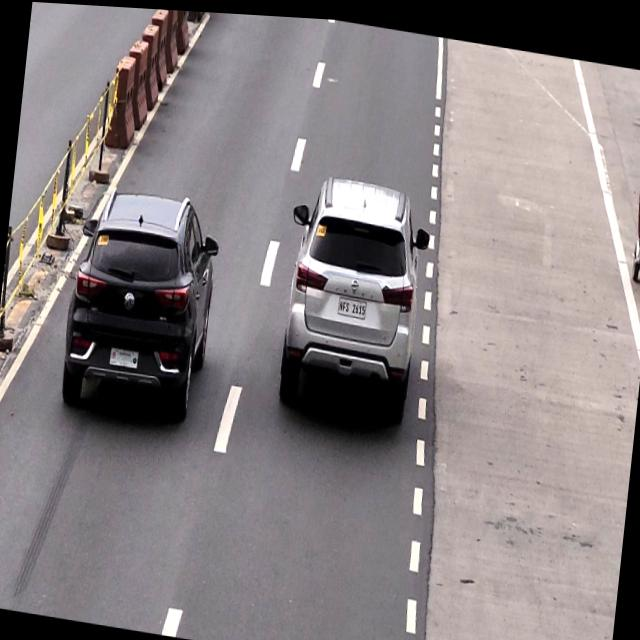Car: (56, 178, 220, 430), (278, 165, 430, 427)
License-Plate: (105, 342, 141, 370), (334, 292, 370, 317)
